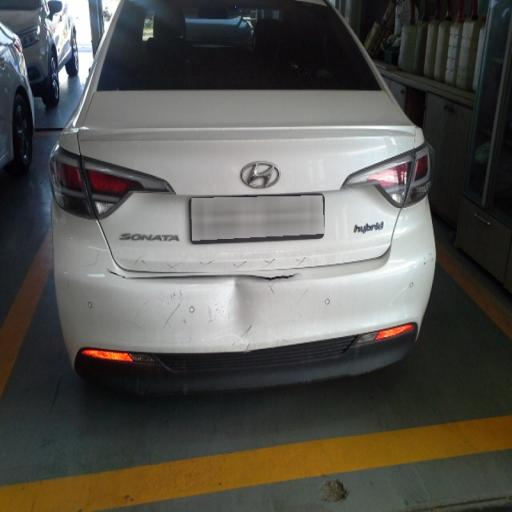dent: (162, 220, 295, 374)
